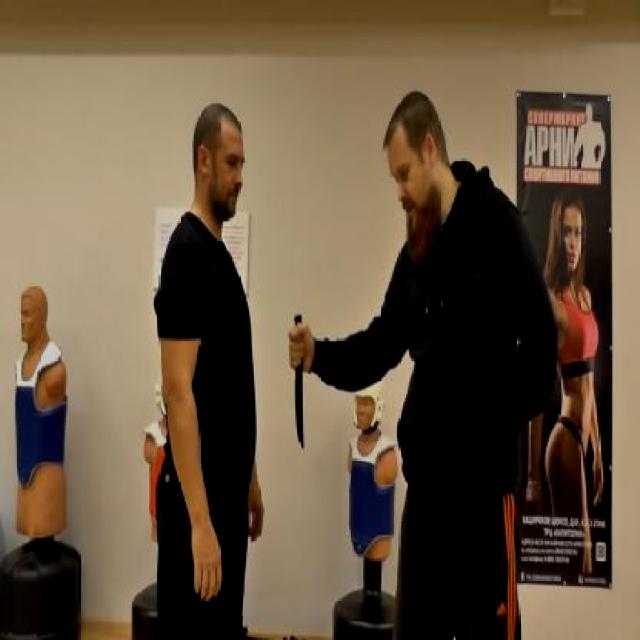knife: (285, 306, 309, 456)
